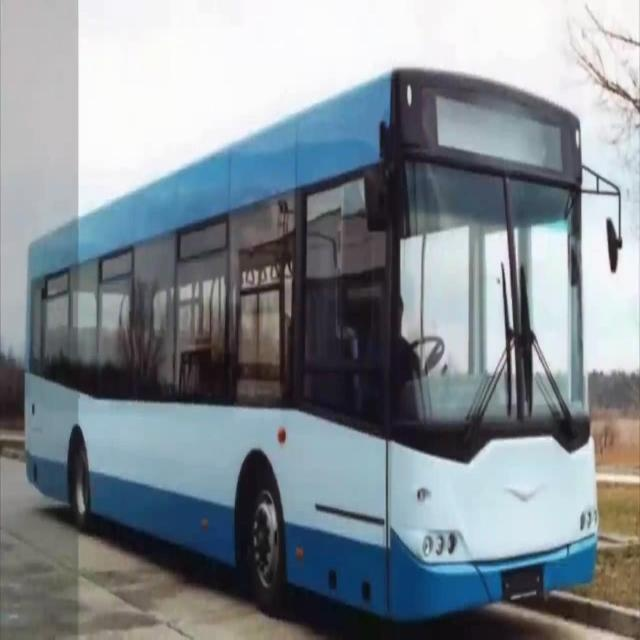Bus: (25, 58, 628, 634)
